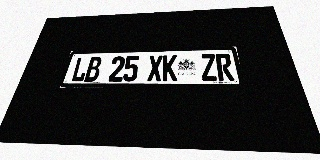2: (108, 56, 126, 82)
5: (123, 56, 139, 82)
B: (84, 57, 103, 82)
K: (162, 55, 177, 81)
L: (70, 57, 90, 82)
R: (215, 54, 235, 81)
X: (147, 55, 163, 81)
Z: (200, 54, 218, 81)
